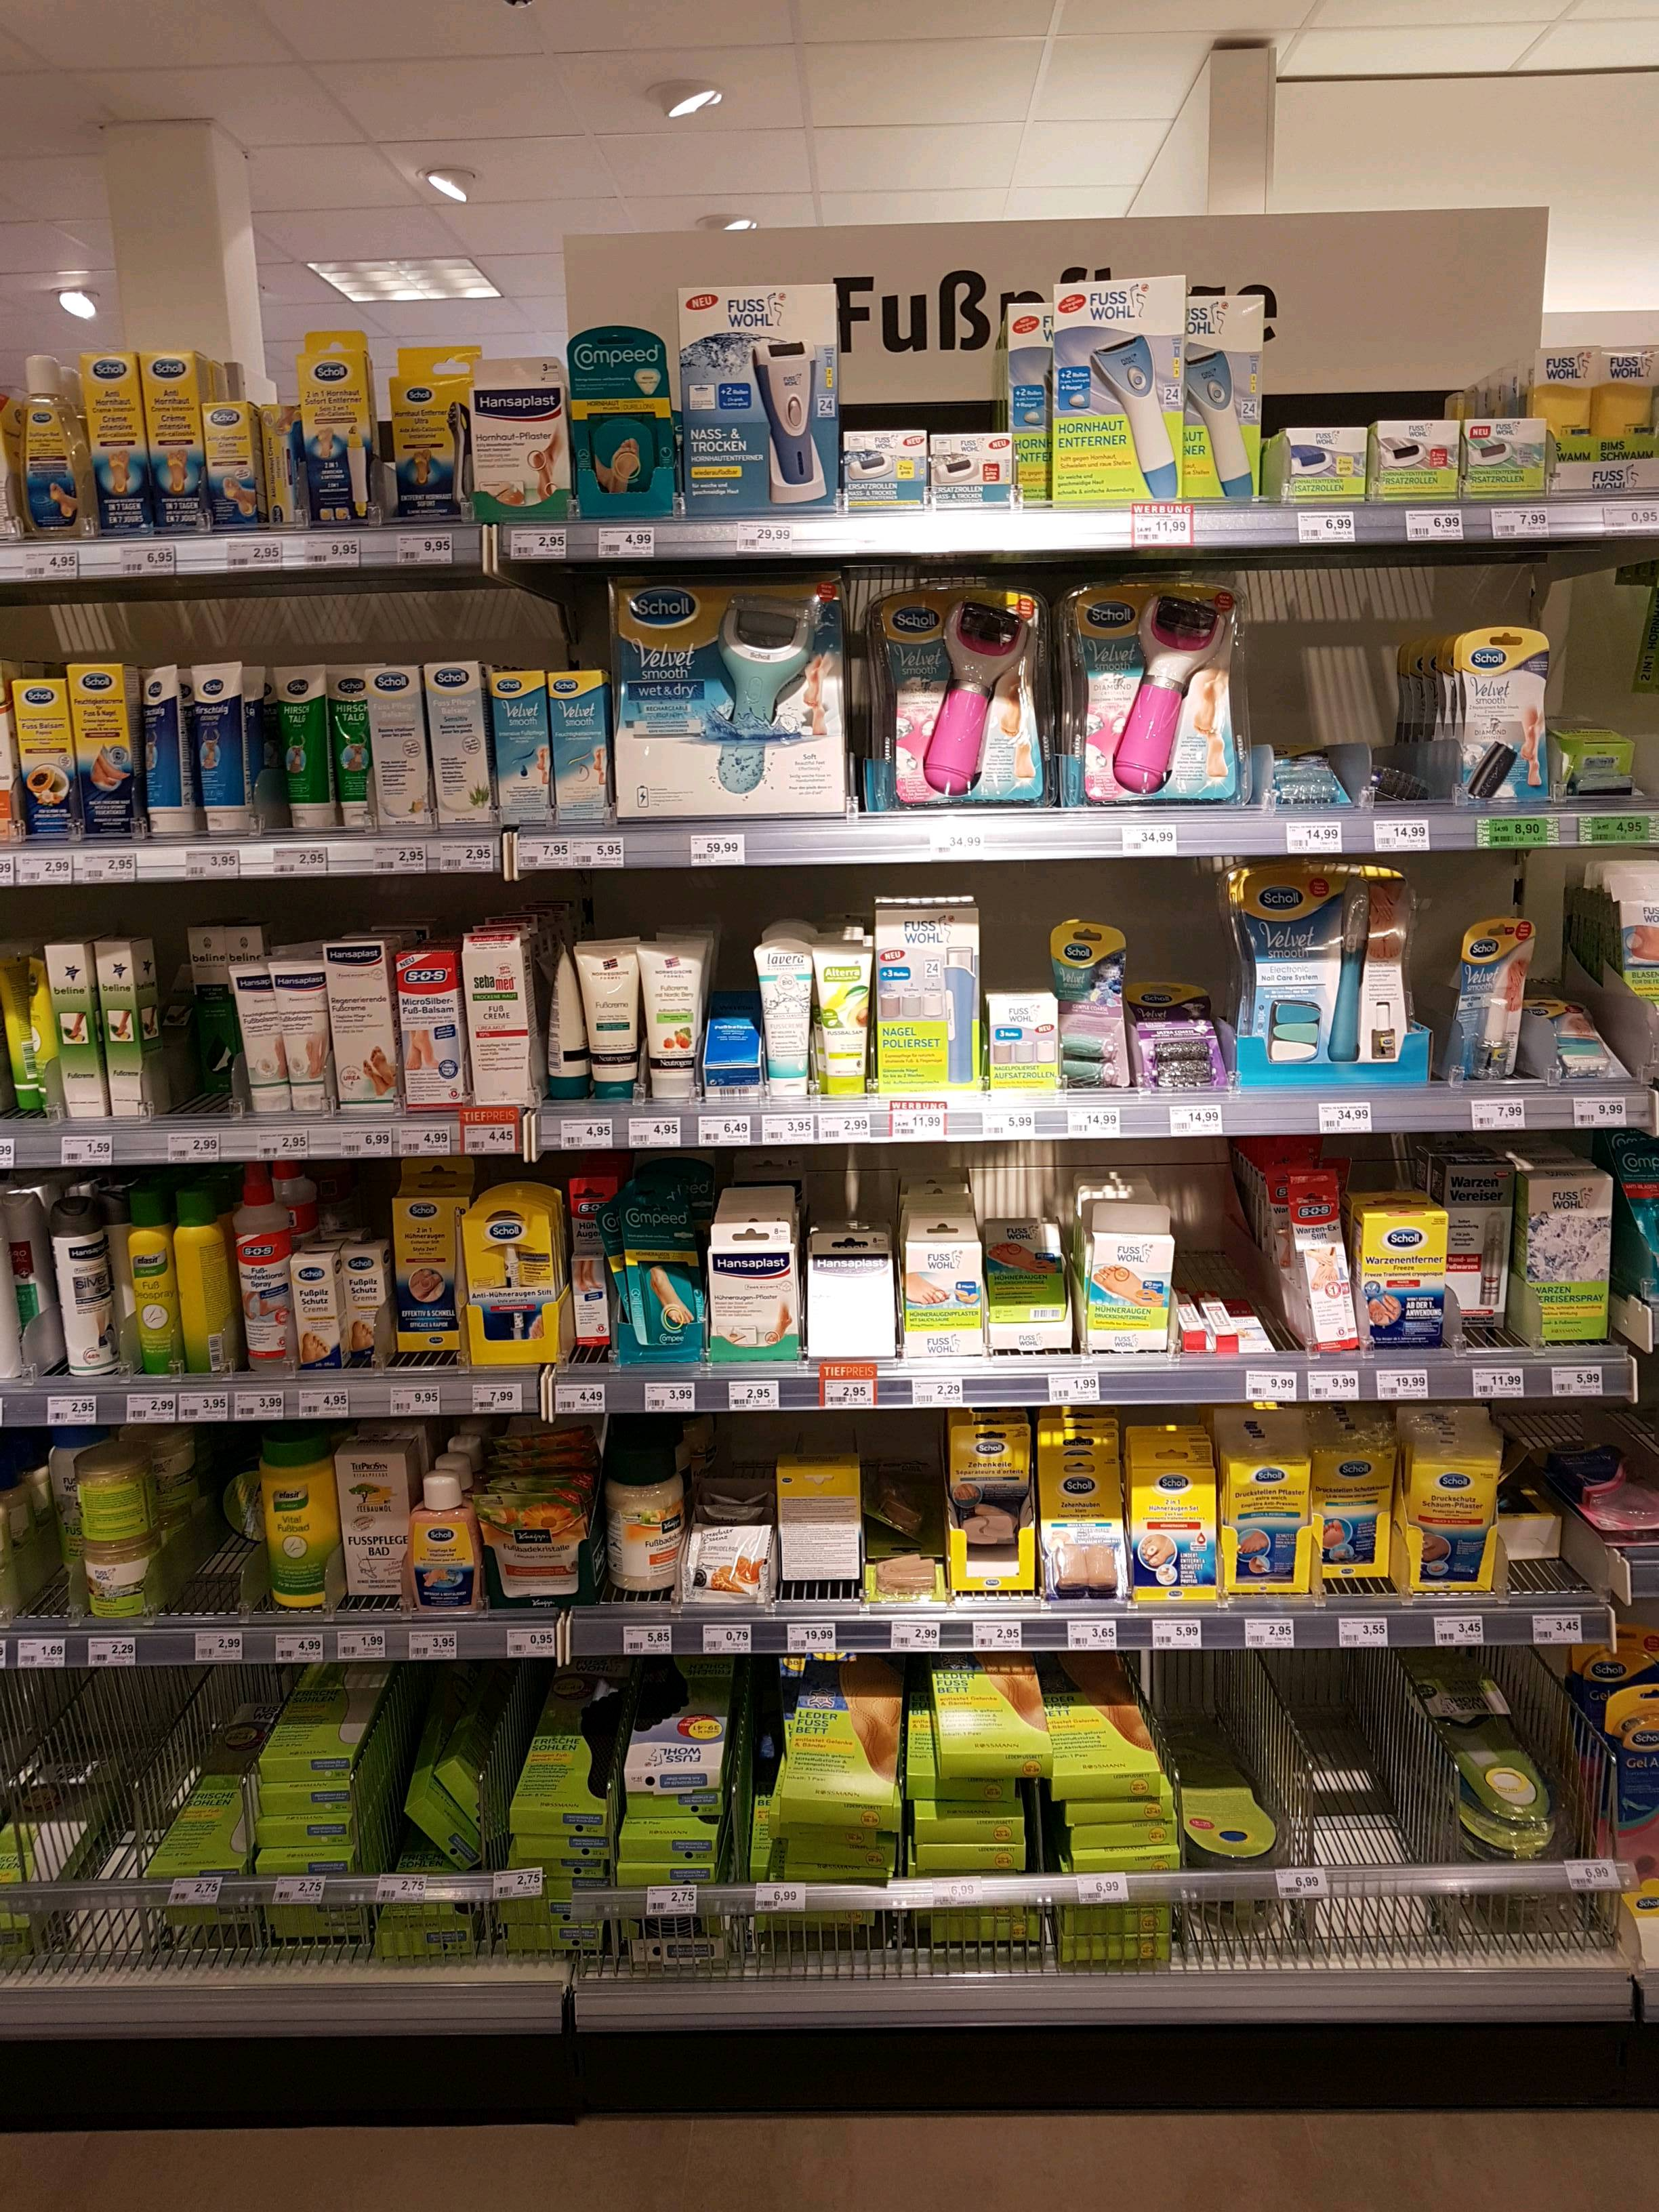Misplacement: (160, 899, 230, 1116)
